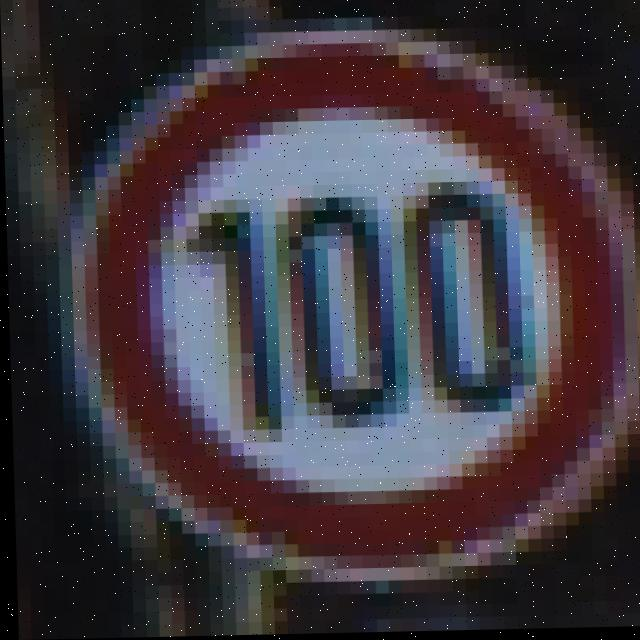speed_limit_100: (96, 44, 640, 574)
